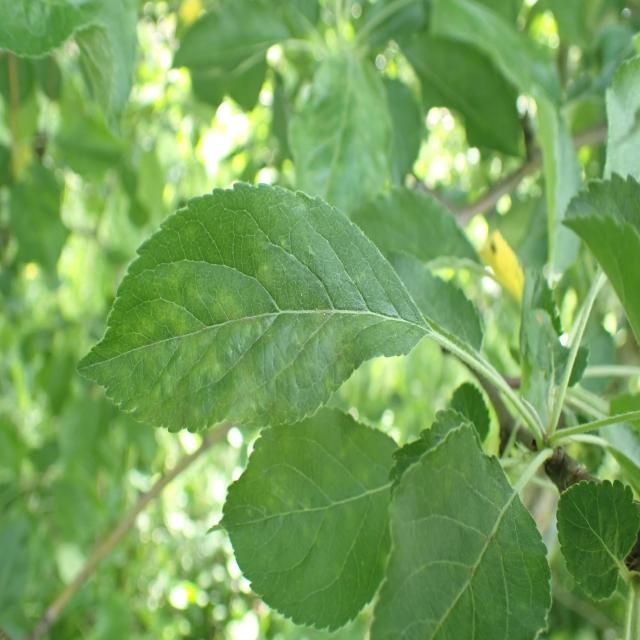scab: (87, 228, 422, 398)
